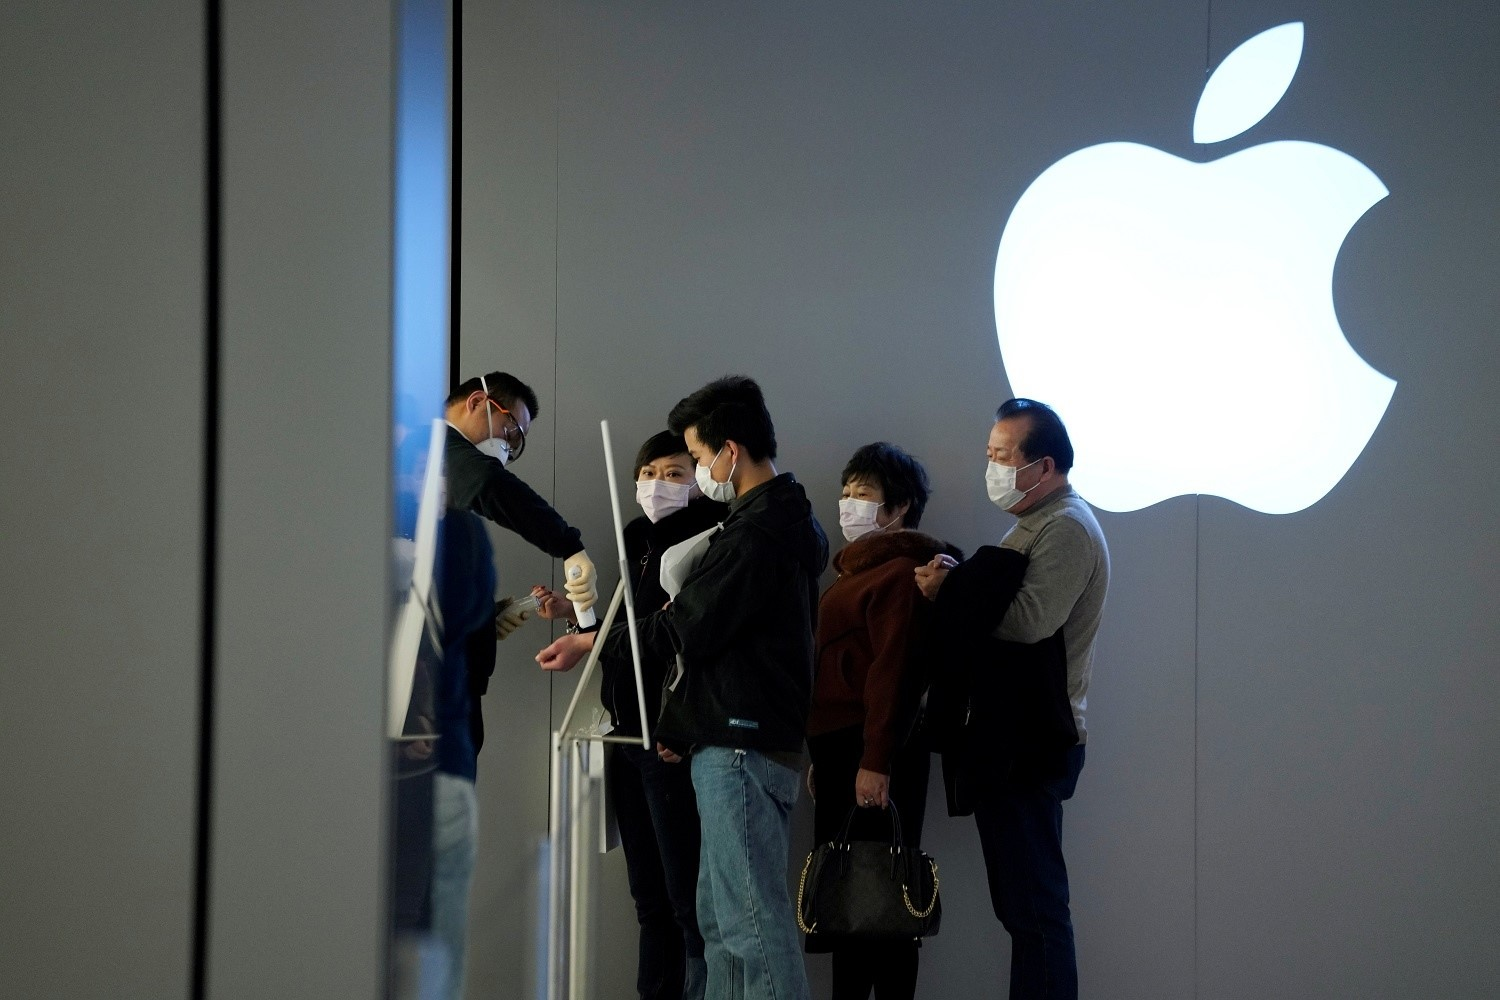face_with_mask: (672, 378, 784, 503), (985, 396, 1075, 514), (837, 441, 931, 548), (446, 368, 542, 471), (624, 431, 696, 529)
